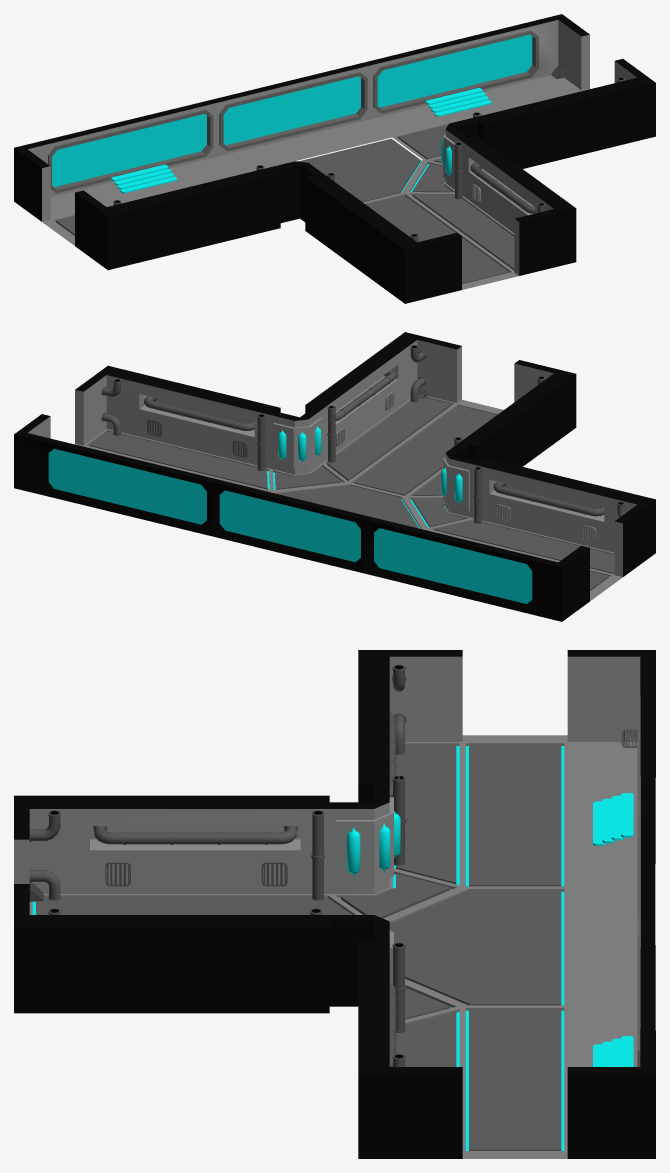
File: HallwayT-Split.fbx
3 renders of one model, top to bottom at view 1: azimuth 30°, elevation 25°; view 2: azimuth 150°, elevation 25°; view 3: azimuth 270°, elevation 25°, orthographic. The views are drawn at different scales.
Visible parts, largest first — view 1: HallwayT-Split, HallwayT-SplitGlass, HallwayT-SplitStairs; view 2: HallwayT-Split, HallwayT-SplitGlass; view 3: HallwayT-Split, HallwayT-SplitLights, HallwayT-SplitStairs, HallwayT-SplitGlass.
Boxes of the visible parts, x1,y1,x2,y2 form: HallwayT-Split: (14,14,655,303); HallwayT-SplitGlass: (52,34,532,187); HallwayT-SplitStairs: (111,88,491,193); HallwayT-Split: (14,332,655,621); HallwayT-SplitGlass: (48,426,532,603); HallwayT-Split: (14,650,655,1158); HallwayT-SplitLights: (32,746,564,1150); HallwayT-SplitStairs: (593,793,633,1066); HallwayT-SplitGlass: (347,811,400,876).
Size of the model in its own units: 3200 by 310 by 2050.
